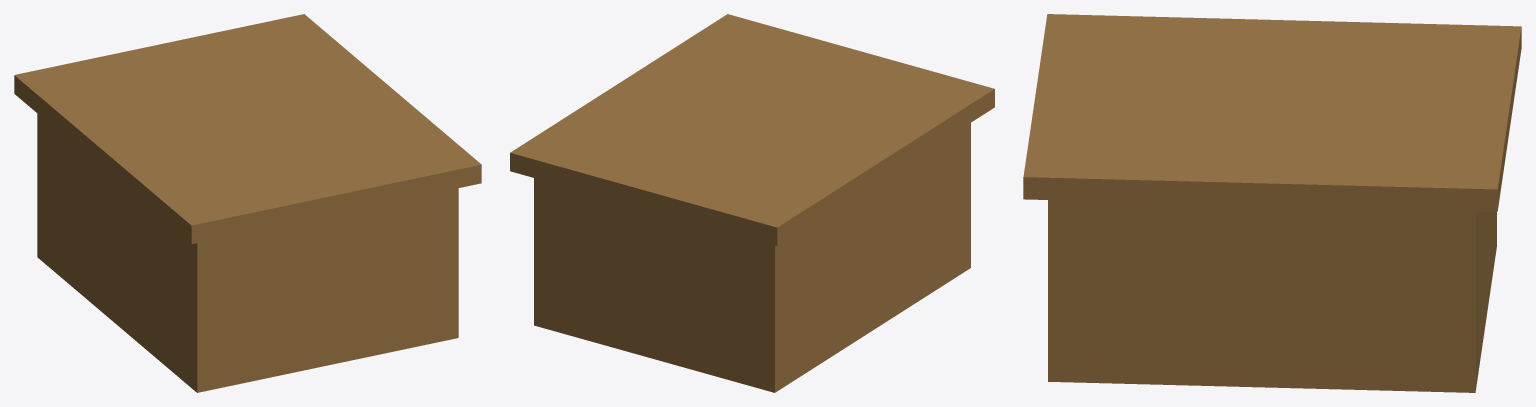
Rendered from Caja_1.fbx.
The picture shows the model from 3 angles, left to right: view 1: azimuth 30°, elevation 25°; view 2: azimuth 150°, elevation 25°; view 3: azimuth 270°, elevation 25°; orthographic projection. The views are drawn at different scales.
Visible parts, largest first — view 1: Caja1; view 2: Caja1; view 3: Caja1.
Boxes of the visible parts, x1,y1,x2,y2 form: Caja1: (14, 14, 481, 392); Caja1: (510, 14, 994, 392); Caja1: (1023, 14, 1521, 392).
Size of the model in its own units: 63.8 by 35.95 by 76.51.
